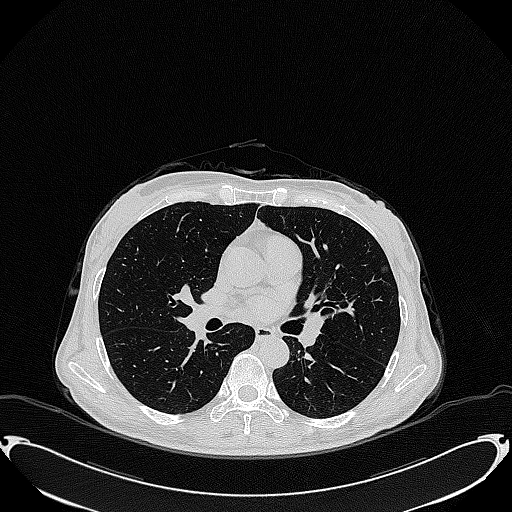nodule: (380, 265, 388, 273)
